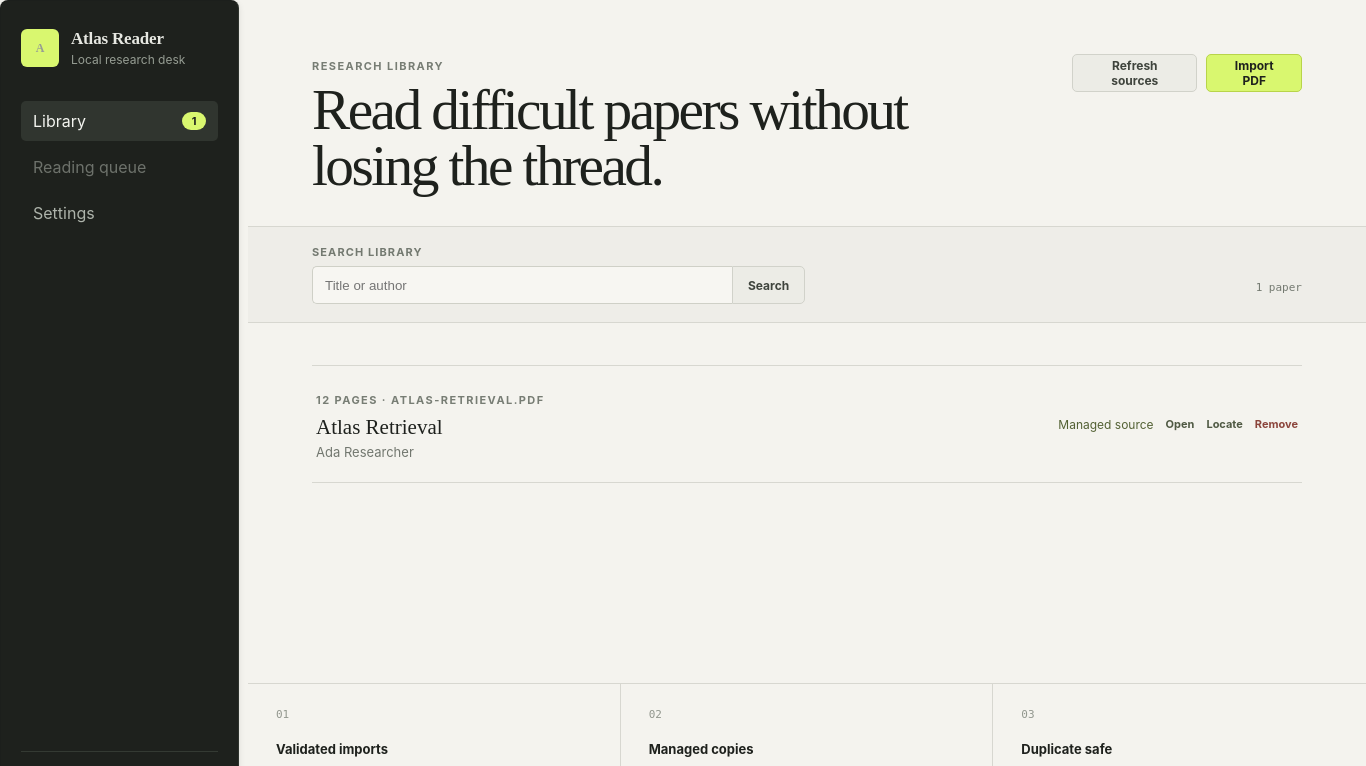
Test: App › turns a translated-text selection into a Reading Assistant command
The image size is (1366, 766).
Expected: the button "Atlas Retrieval" is shown, x1=316 y1=415 x2=442 y2=440
Click the button "Open" at point(1180, 424), box x1=1166 y1=412 x2=1194 y2=436
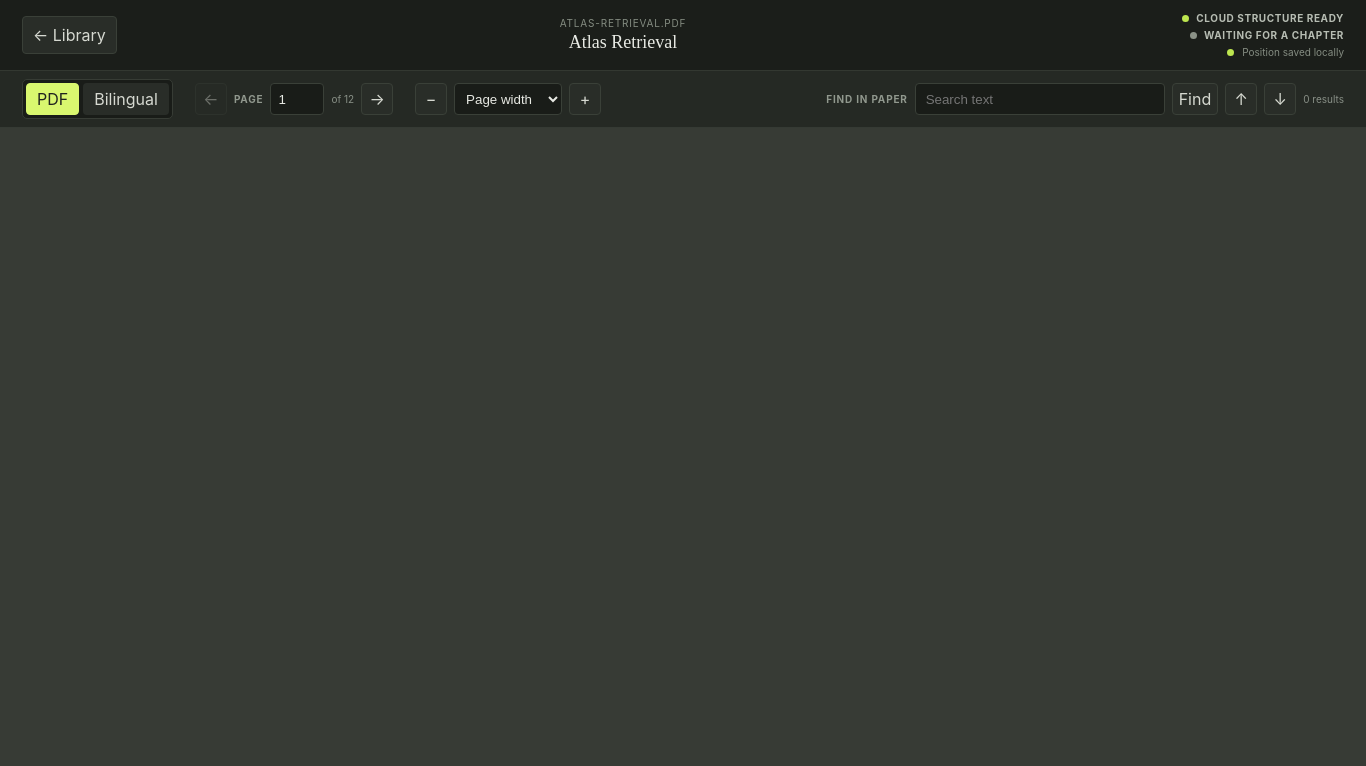
Click the button "Bilingual" at point(126, 99), box x1=83 y1=83 x2=169 y2=115
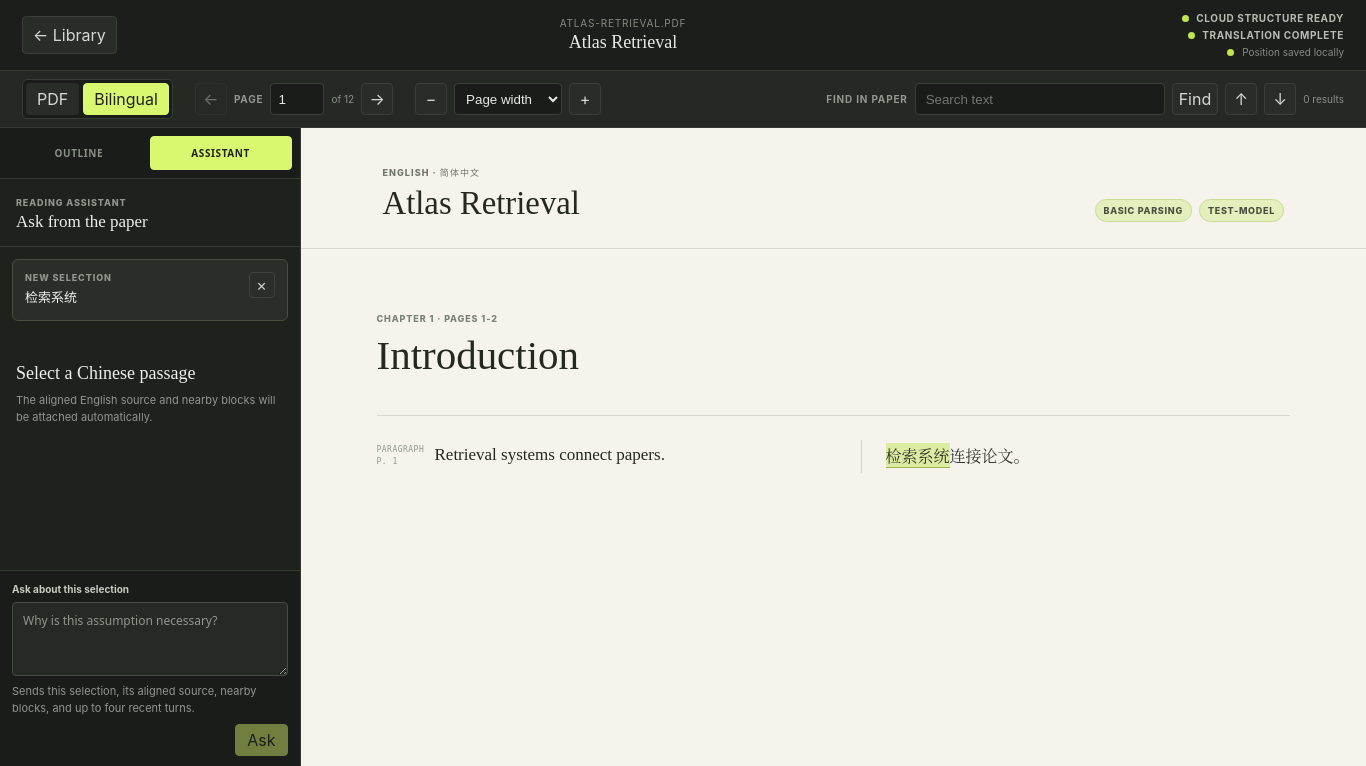
Expected: the text "Reading Assistant" is shown, x1=16 y1=197 x2=127 y2=208
Expected: the text "检索系统" is shown 2 times, x1=25 y1=290 x2=77 y2=305; x1=886 y1=443 x2=950 y2=468
Expected: the text "检索系统" next to "连接论文。" is shown, x1=886 y1=444 x2=950 y2=467
Type "为什么这一点重要？" into the text box labelled "Ask about this selection" at point(150, 639), box x1=12 y1=602 x2=288 y2=676
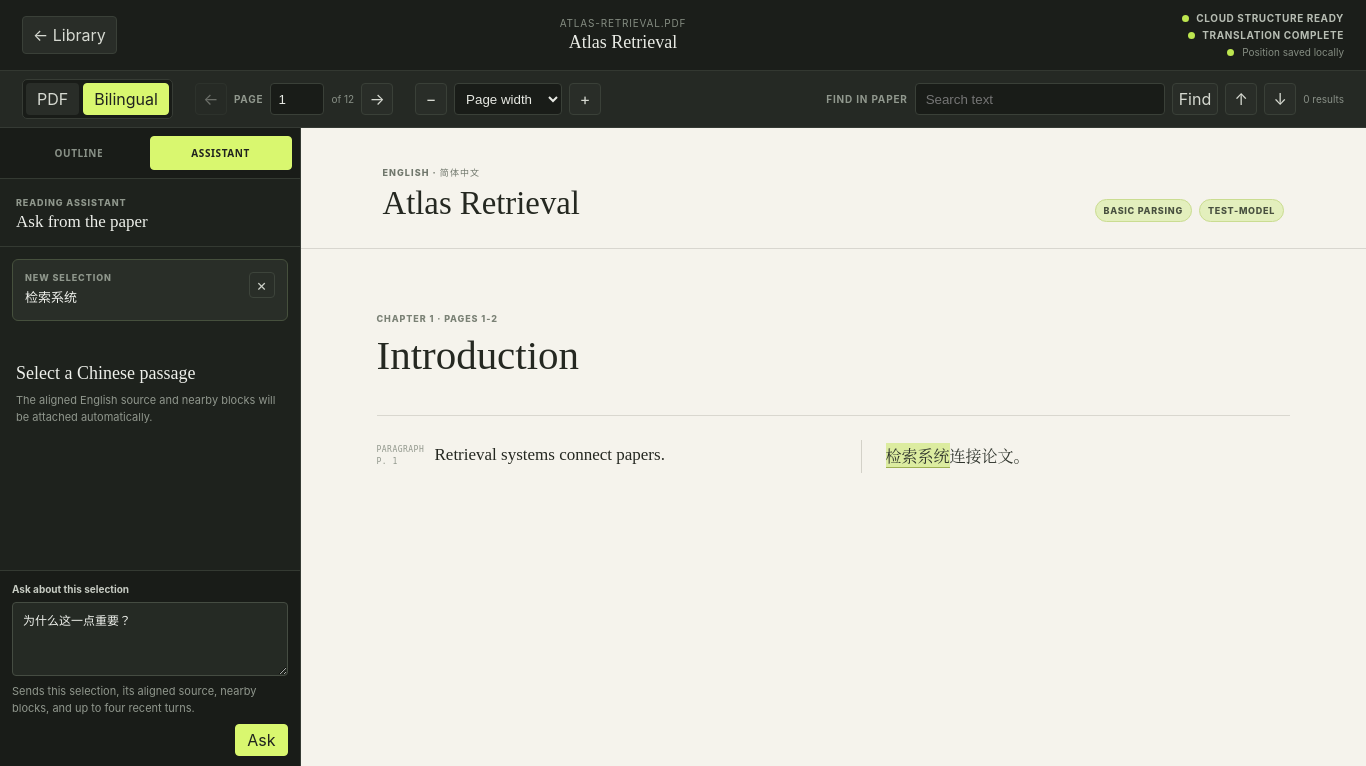
Click the button "Ask" at point(261, 740), box x1=235 y1=724 x2=288 y2=756
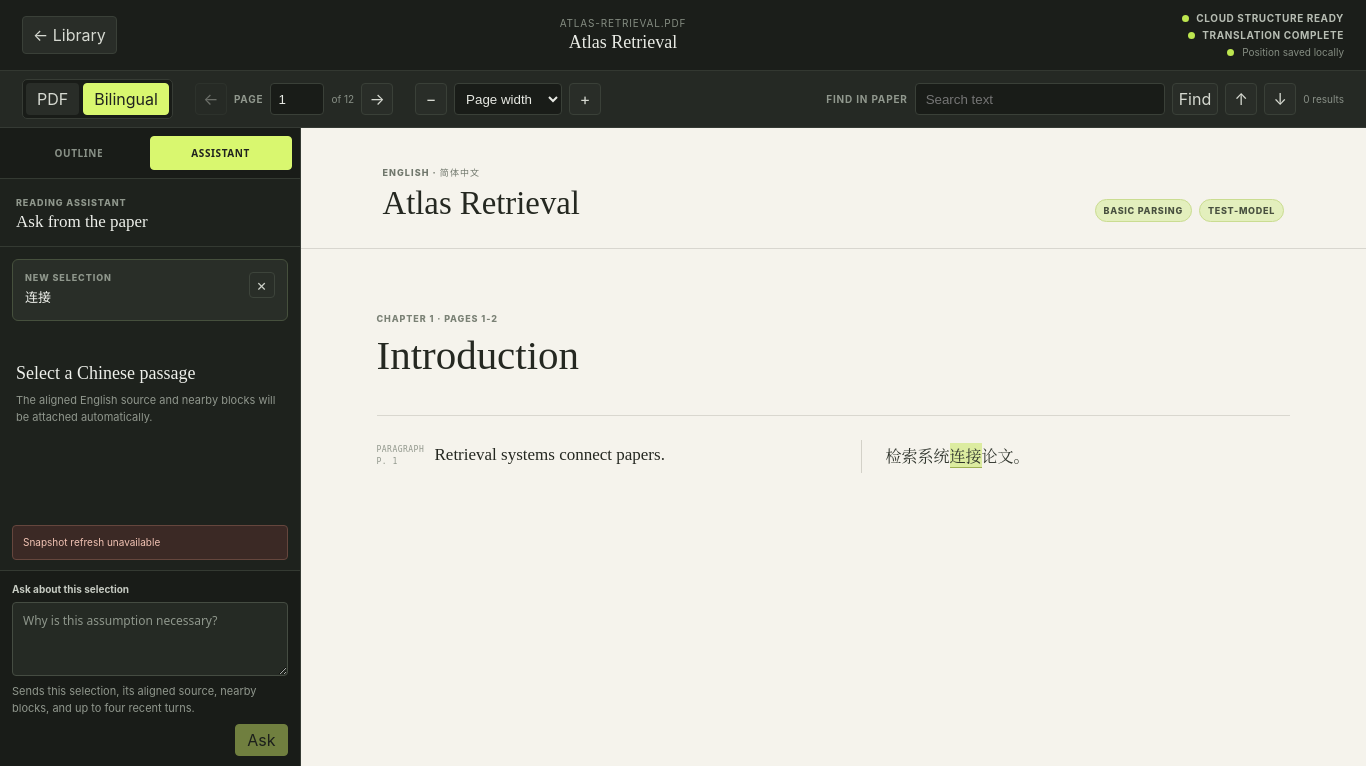
Expected: the text "连接" is shown 2 times, x1=25 y1=290 x2=51 y2=305; x1=950 y1=443 x2=982 y2=468
Expected: the text box labelled "Ask about this selection" is empty, x1=12 y1=602 x2=288 y2=676
Expected: the text "连接" next to "检索系统" is shown, x1=950 y1=444 x2=982 y2=467
